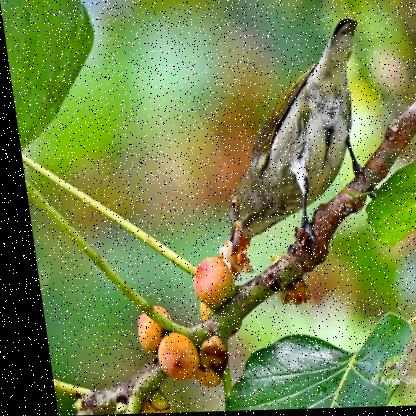Burung: (193, 16, 386, 262)
